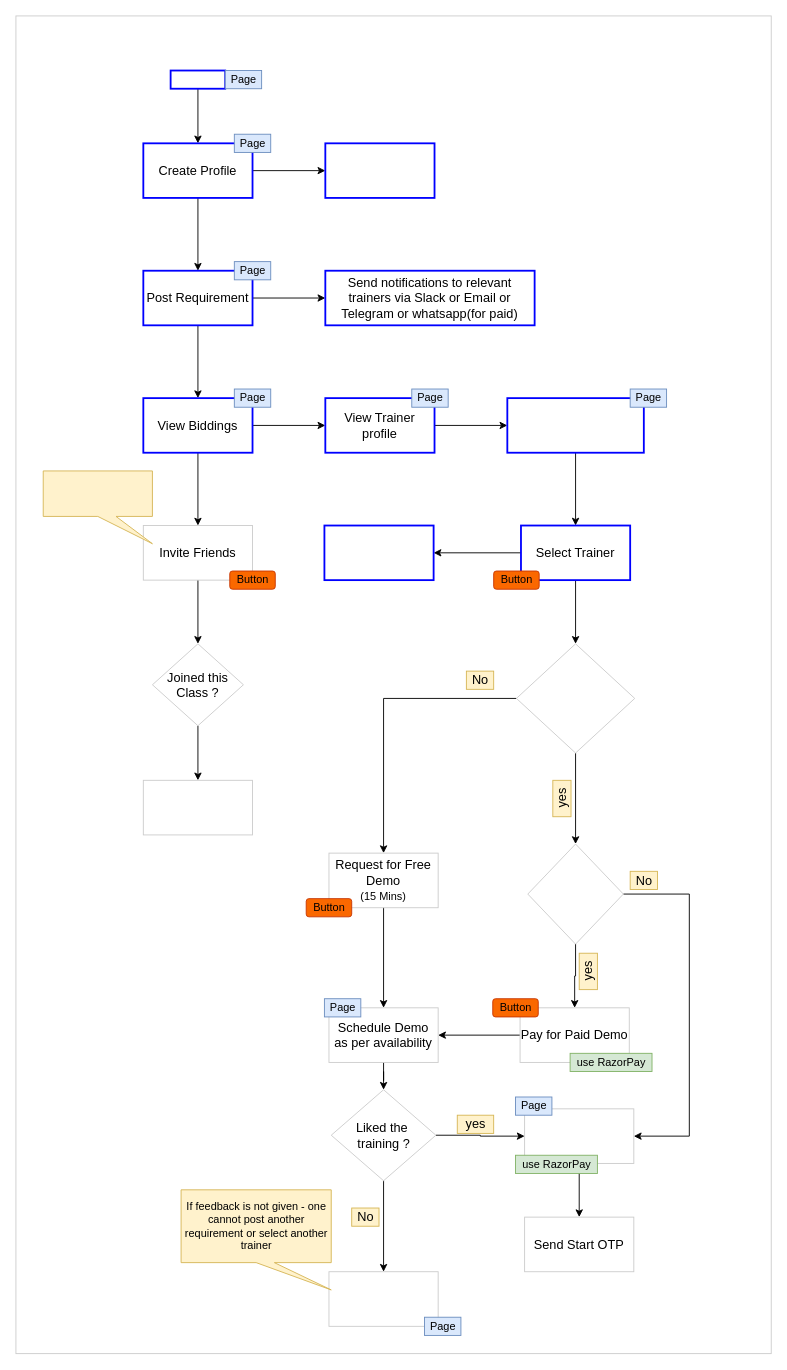
Some shapes in this 787 by 1370 pixel diagram are drawn without their labels. Here are the shapes that lost their labels. From the top down, the centre of each, then its label:
At point (197, 79): "Sign in".
At point (379, 170): "Update Information".
At point (575, 425): "View Course/Curriculum".
At point (97, 507): "Whatsapp Telegram Whatsapp Status".
At point (378, 552): "Send Notification to trainer".
At point (575, 698): "Senior Trainer+ ?".
At point (197, 807): "Reduce 10%/person".
At point (575, 893): "Need Demo ?".
At point (579, 1135): "Pay for complete training".
At point (383, 1298): "Give feedback and Choose Another Trainer".
